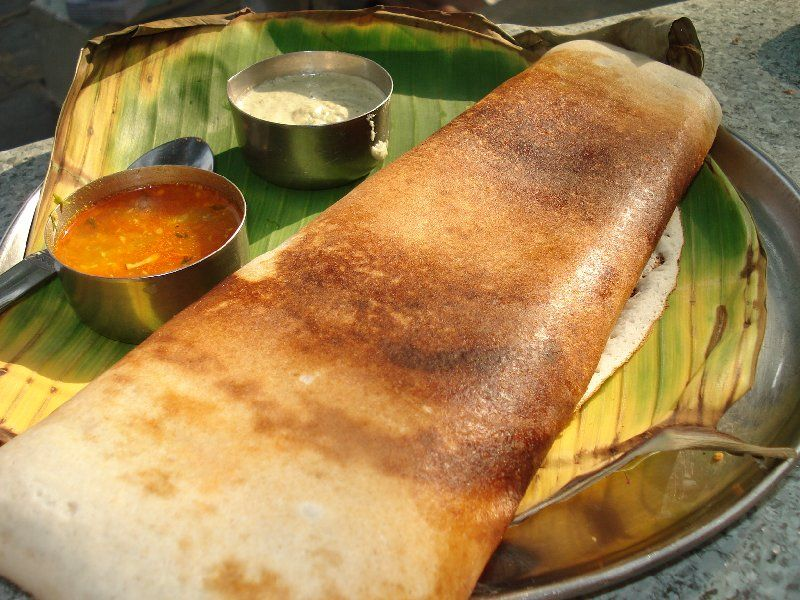dosa: (1, 39, 727, 600)
